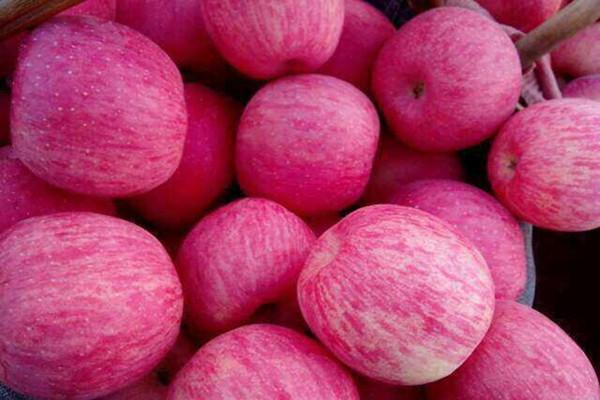apple: (295, 203, 498, 387), (1, 206, 185, 392), (3, 17, 186, 202), (374, 5, 521, 151), (234, 73, 381, 212), (175, 196, 315, 329), (117, 80, 239, 231), (164, 322, 366, 394), (489, 100, 600, 231), (200, 1, 345, 79)
